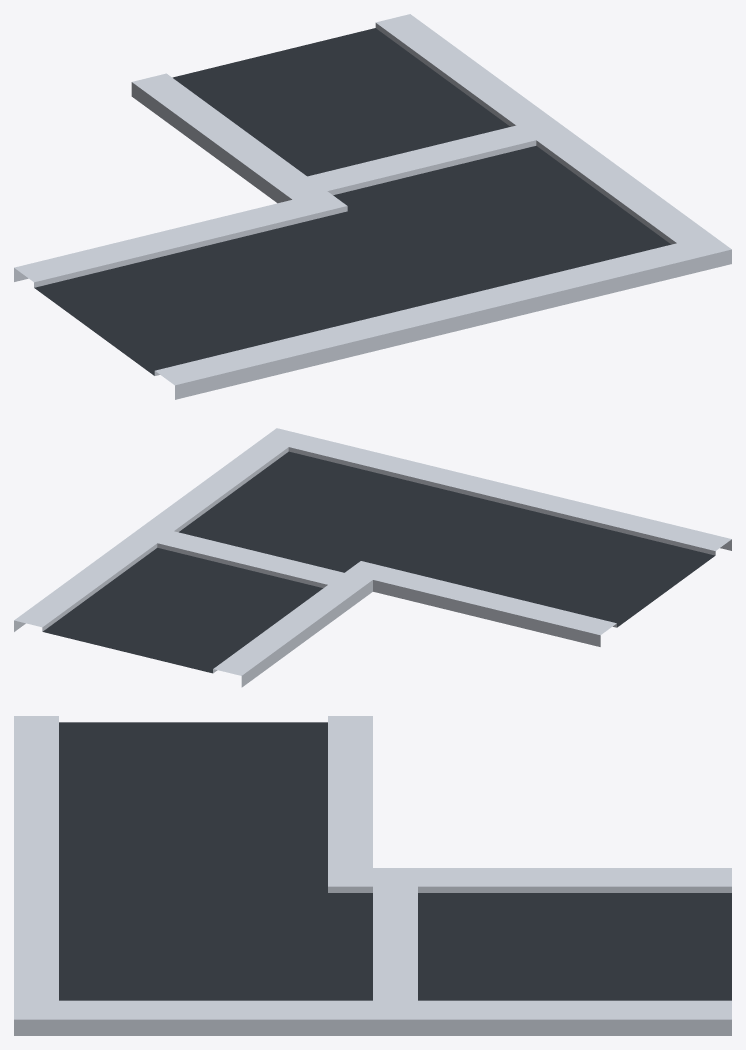
The model's file is road.glb.
The picture shows the model from 3 angles, top to bottom: view 1: azimuth 30°, elevation 25°; view 2: azimuth 150°, elevation 25°; view 3: azimuth 270°, elevation 25°; orthographic projection. The views are drawn at different scales.
Visible parts, largest first — view 1: turn90, Straight, 4way, End, 3way; view 2: turn90, 4way, Straight, 3way, End; view 3: turn90, Straight, 4way, 3way, End.
Boxes of the visible parts, bbox=[...] form: turn90: bbox=[14, 15, 731, 399]; Straight: bbox=[131, 14, 570, 199]; 4way: bbox=[132, 15, 568, 198]; End: bbox=[132, 29, 548, 183]; 3way: bbox=[307, 125, 536, 195]; turn90: bbox=[14, 428, 731, 673]; 4way: bbox=[16, 527, 322, 675]; Straight: bbox=[14, 525, 372, 687]; 3way: bbox=[157, 531, 343, 672]; End: bbox=[79, 537, 372, 677]; turn90: bbox=[14, 716, 731, 1035]; Straight: bbox=[373, 868, 731, 1035]; 4way: bbox=[373, 868, 731, 1019]; 3way: bbox=[373, 886, 417, 1000]; End: bbox=[373, 886, 731, 1025].
Bounding box in the file's own units: 40 × 1 × 40.
Materials: 1 (1 with a texture image).
